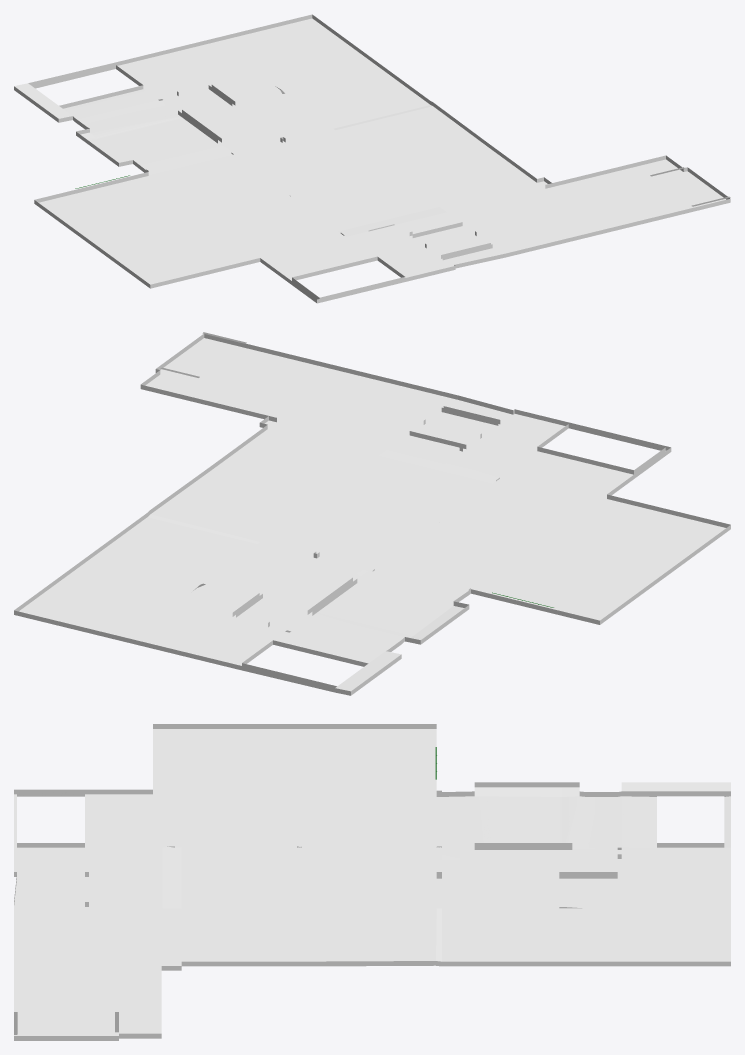
File: celing_1f.fbx
The picture shows the model from 3 angles, top to bottom: view 1: azimuth 30°, elevation 25°; view 2: azimuth 150°, elevation 25°; view 3: azimuth 270°, elevation 25°; orthographic projection. The views are drawn at different scales.
Parts seen in each view (by area): view 1: celing_1f; view 2: celing_1f; view 3: celing_1f.
Boxes of the visible parts, <box> form: celing_1f: <box>14,14,730,303</box>; celing_1f: <box>14,332,730,695</box>; celing_1f: <box>14,724,730,1040</box>.
Size of the model in its own units: 0.4749 by 0.00439 by 0.4607.
Materials: 2 (1 with a texture image).
